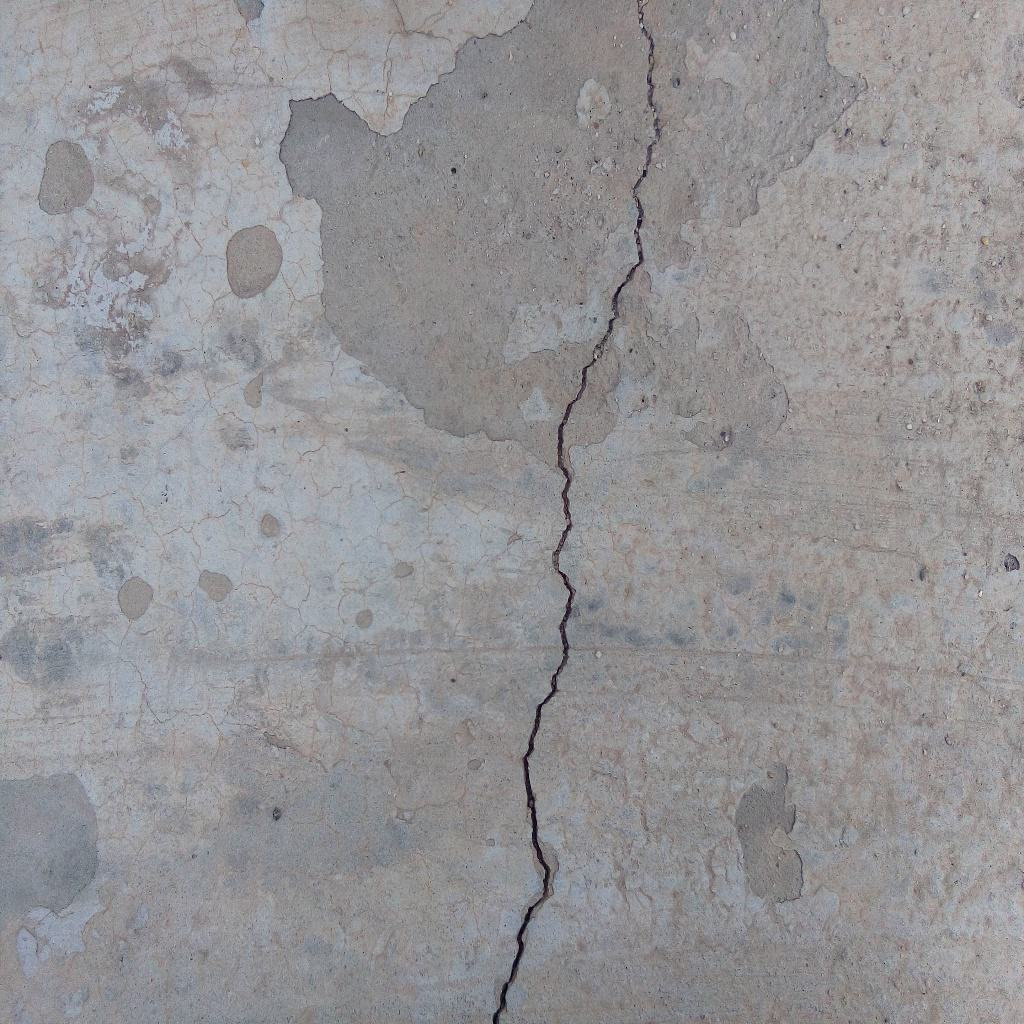Crack: (491, 1, 662, 1024)
Spalling: (279, 1, 867, 482), (1, 771, 101, 932), (733, 760, 805, 904), (37, 139, 95, 216), (225, 224, 283, 299), (117, 575, 153, 620), (197, 569, 234, 603), (232, 1, 267, 26), (242, 370, 264, 409), (260, 513, 280, 538), (354, 609, 375, 629), (393, 561, 415, 580)
